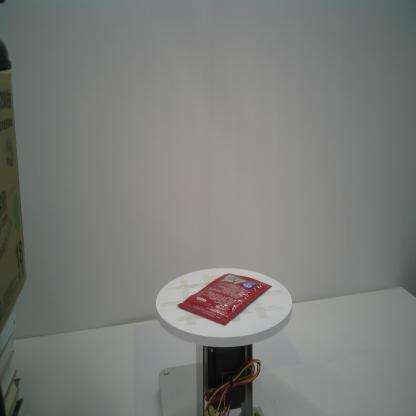Seasoner: (177, 272, 272, 327)
